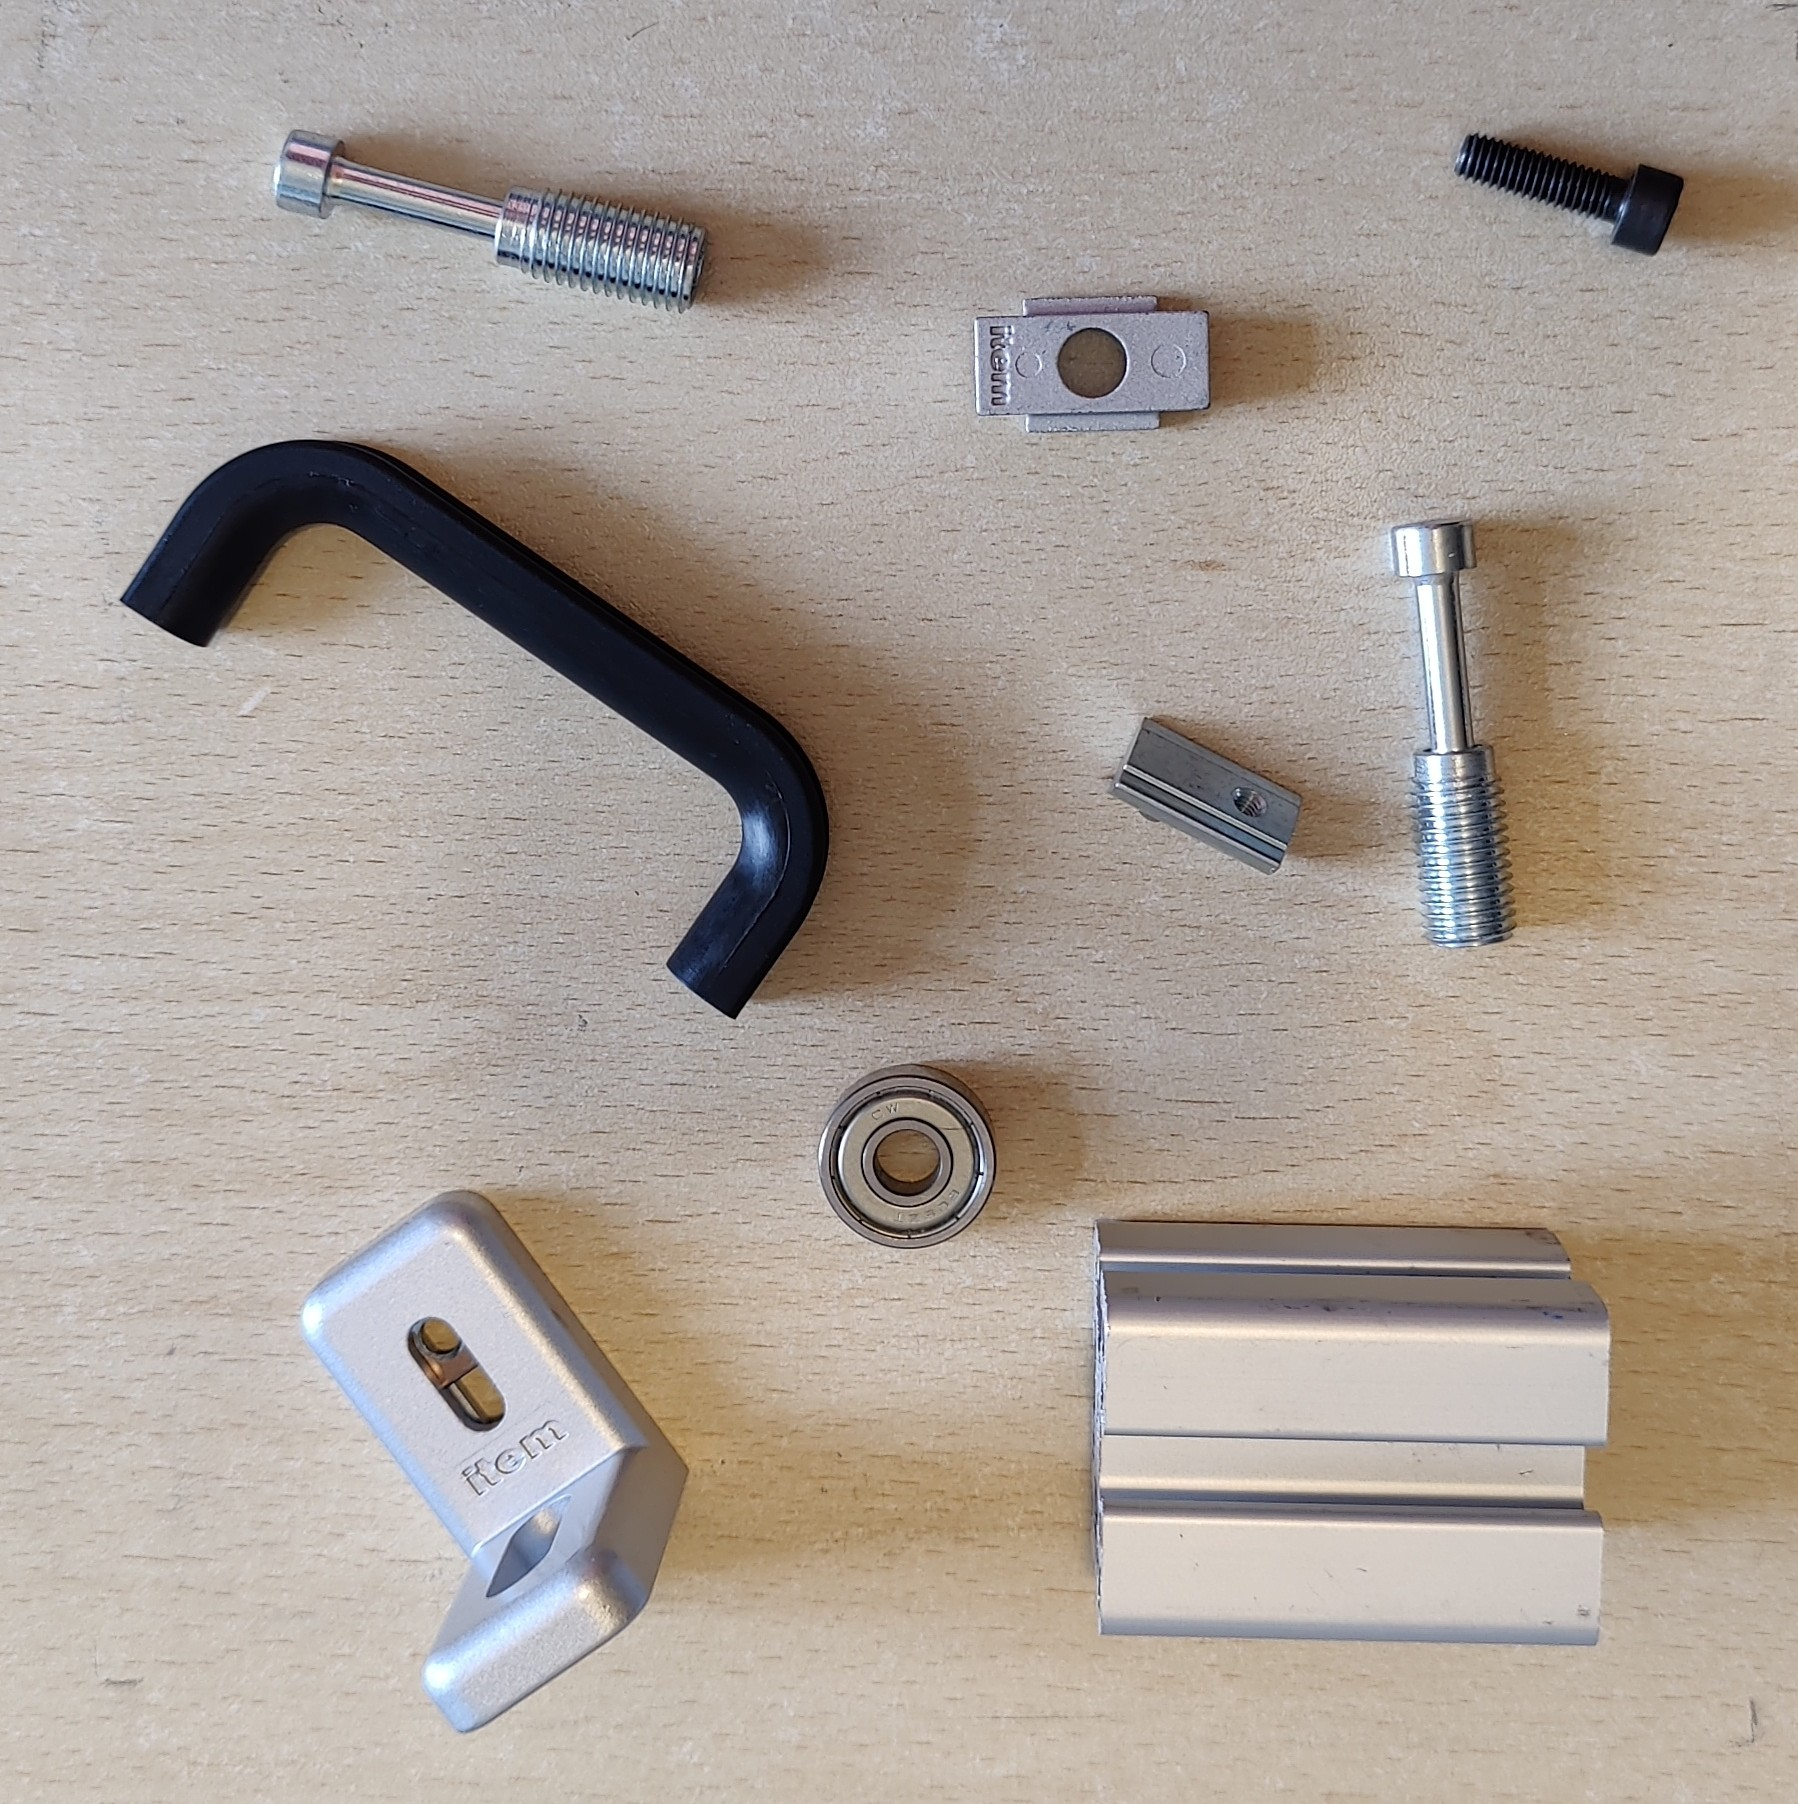Aluminium Extension: (1085, 1211, 1614, 1649)
Ball Bearing: (813, 1058, 999, 1253)
Multiwinkel: (300, 1188, 692, 1737)
Pull Handle: (119, 438, 833, 1025)
Shoulder Socket Head Cap Screw: (270, 128, 710, 314), (1385, 515, 1518, 951)
Socket Head Cap Screw: (1451, 128, 1688, 258)
T Nut Square: (970, 295, 1213, 435)
T Spring Nut: (1106, 714, 1307, 877)
